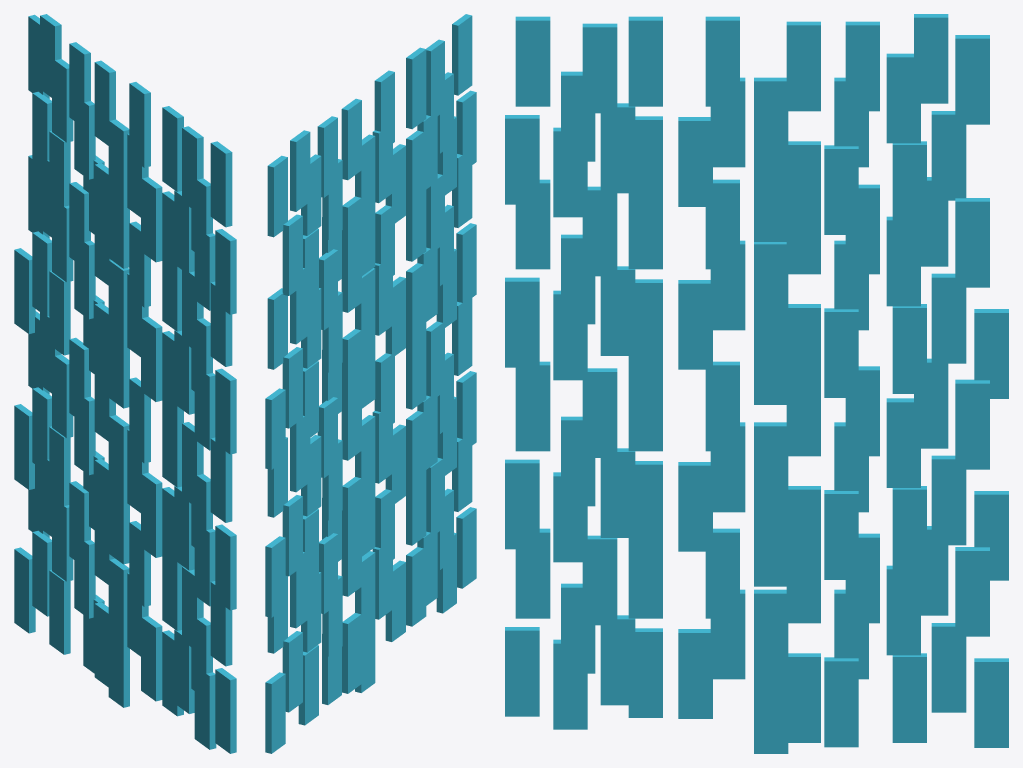
Rendered from WasserFallObjekt.fbx.
The picture shows the model from 3 angles, left to right: view 1: azimuth 30°, elevation 25°; view 2: azimuth 150°, elevation 25°; view 3: azimuth 270°, elevation 25°; orthographic projection. The views are drawn at different scales.
Visible parts, largest first — view 1: Cube.135, Cube, Cube.006, Cube.070, Cube.133, Cube.139, Cube.063, Cube.076, Cube.065, Cube.069, Cube.013, Cube.033 (+83 smaller); view 2: Cube.020, Cube.049, Cube.090, Cube.136, Cube.122, Cube.120, Cube.128, Cube.121, Cube.002, Cube.135, Cube.088, Cube (+83 smaller); view 3: Cube.135, Cube.107, Cube.136, Cube.069, Cube.065, Cube.061, Cube.074, Cube.051, Cube.128, Cube.034, Cube, Cube.018 (+83 smaller).
Boxes of the visible parts, x1,y1,x2,y2 form: Cube.135: (210,141,232,227); Cube: (215,668,236,753); Cube.006: (141,616,162,701); Cube.070: (215,368,236,454); Cube.133: (141,177,162,262); Cube.139: (215,229,236,314); Cube.063: (141,472,162,557); Cube.076: (141,317,162,401); Cube.065: (210,437,232,522); Cube.069: (215,524,236,610); Cube.013: (49,570,70,654); Cube.033: (194,666,216,749); Cube.020: (265,672,285,753); Cube.049: (265,536,285,617); Cube.090: (265,388,285,469); Cube.136: (406,47,426,129); Cube.122: (290,130,310,211); Cube.120: (282,214,302,295); Cube.128: (341,98,361,180); Cube.121: (267,155,287,237); Cube.002: (406,547,426,626); Cube.135: (452,14,472,95); Cube.088: (267,288,287,369); Cube: (456,507,476,588); Cube.135: (515,16,550,106); Cube.107: (582,23,617,113); Cube.136: (628,16,662,106); Cube.069: (505,459,539,549); Cube.065: (515,361,550,451); Cube.061: (754,422,788,512); Cube.074: (515,179,550,269); Cube.051: (955,379,989,469); Cube.128: (786,21,820,111); Cube.034: (824,657,858,747); Cube: (505,627,539,716); Cube.018: (955,547,989,636).
Bounding box in the file's own units: 10.84 × 522 × 324.
